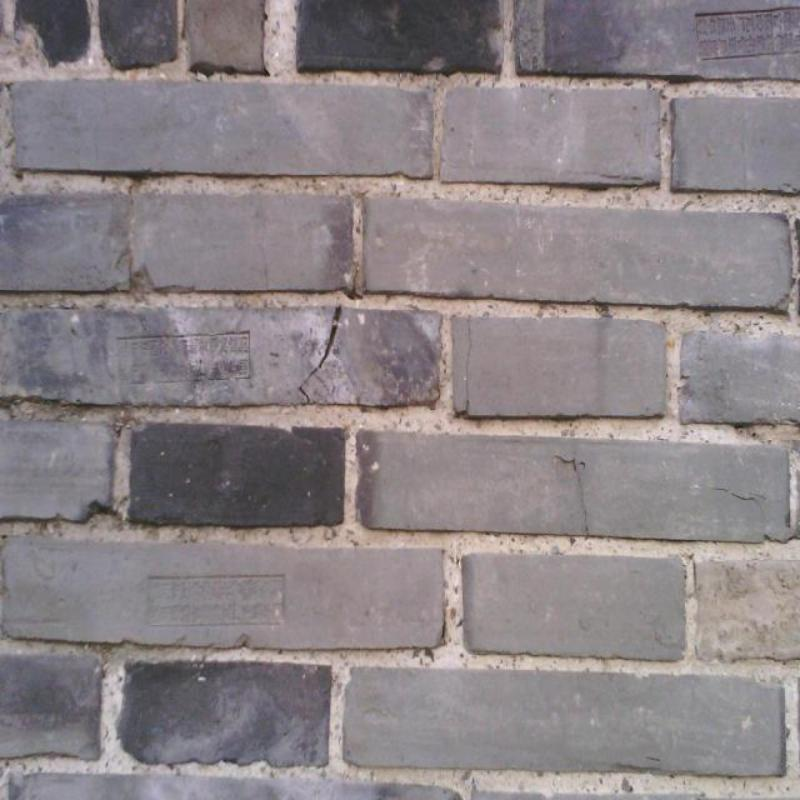pothole: (299, 307, 342, 403), (554, 454, 590, 540), (457, 315, 472, 417), (714, 487, 763, 505)
